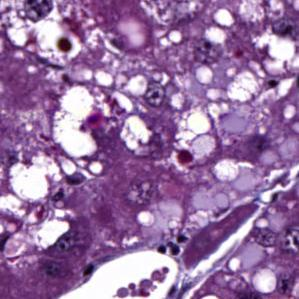ballooning: (6, 6, 85, 68), (168, 106, 224, 175)
